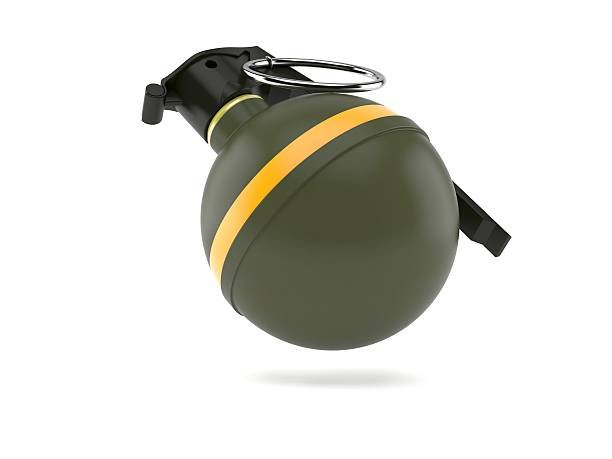e1: (135, 46, 511, 360)
